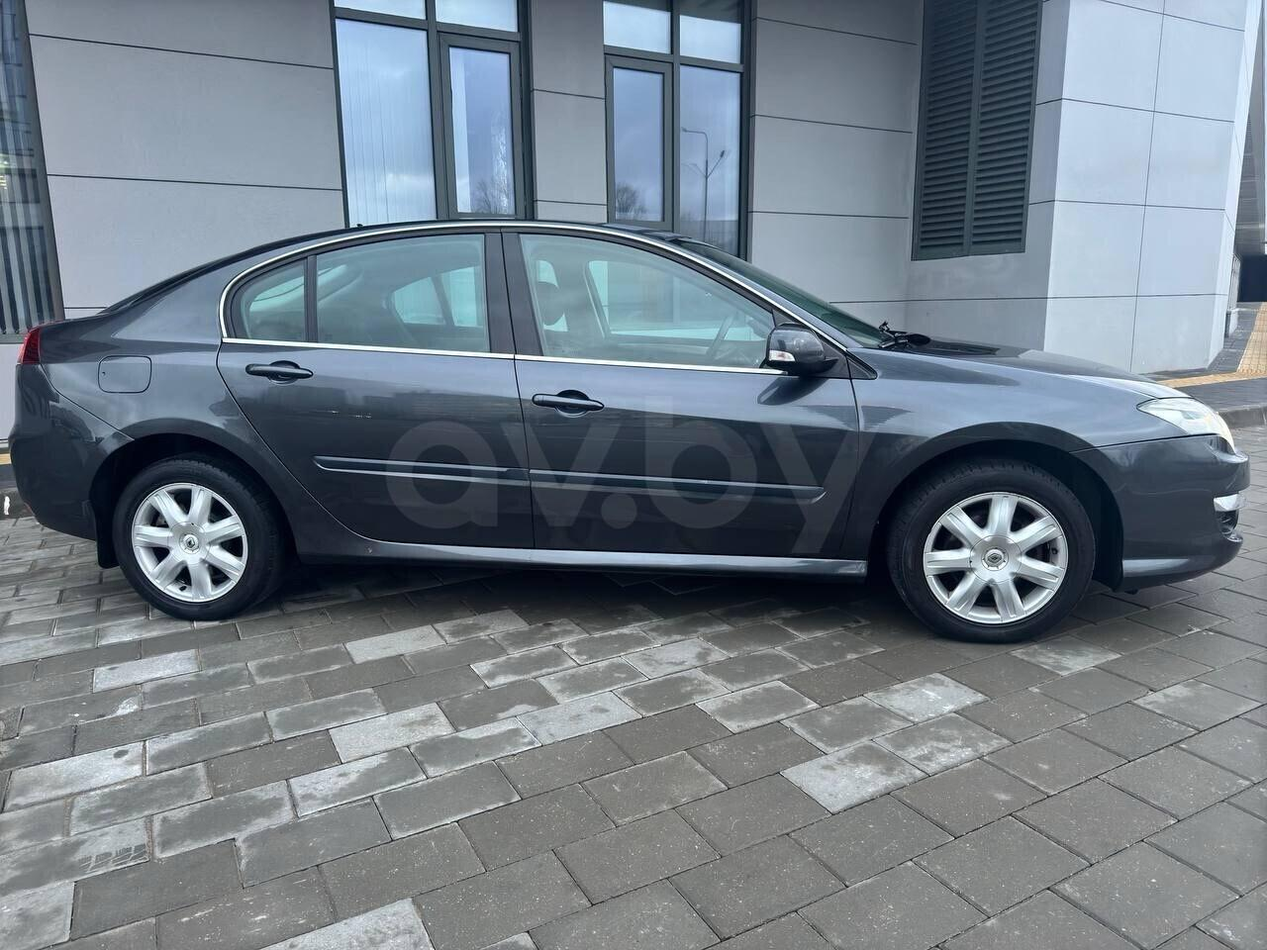Laguna_2010-2015: (1, 192, 1252, 648)
